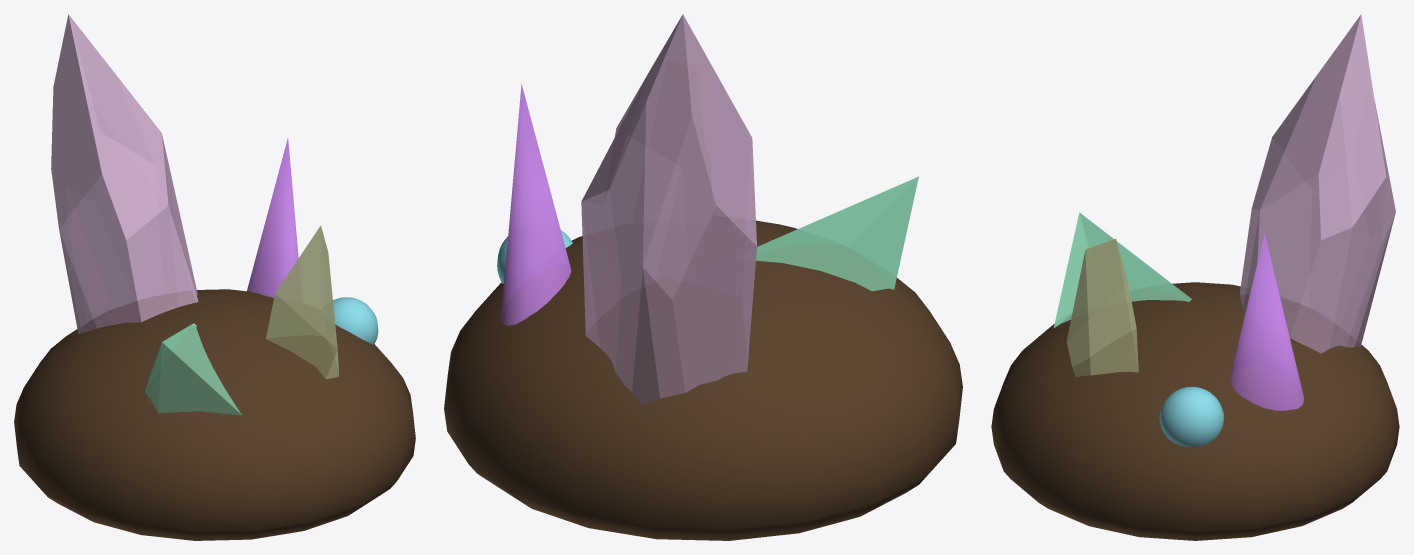
File: CrystalV1.fbx
3 renders of one model, left to right at view 1: azimuth 30°, elevation 25°; view 2: azimuth 150°, elevation 25°; view 3: azimuth 270°, elevation 25°, orthographic. The views are drawn at different scales.
Visible parts, largest first — view 1: pSphere1, pCube1, pCube3, pCube2, pCone1, pSphere2; view 2: pSphere1, pCube1, pCube2, pCone1; view 3: pSphere1, pCube1, pCube3, pCone1, pCube2, pSphere2.
Boxes of the visible parts, left/top/right/bottom form: pSphere1: left=14, top=289, right=415, bottom=540; pCube1: left=51, top=14, right=198, bottom=334; pCube3: left=266, top=225, right=338, bottom=379; pCube2: left=145, top=323, right=242, bottom=415; pCone1: left=247, top=138, right=298, bottom=297; pSphere2: left=333, top=297, right=378, bottom=344; pSphere1: left=444, top=220, right=962, bottom=540; pCube1: left=581, top=14, right=756, bottom=405; pCube2: left=756, top=176, right=918, bottom=291; pCone1: left=501, top=84, right=571, bottom=325; pSphere1: left=991, top=282, right=1399, bottom=540; pCube1: left=1239, top=14, right=1395, bottom=353; pCube3: left=1066, top=239, right=1138, bottom=376; pCone1: left=1230, top=233, right=1303, bottom=410; pCube2: left=1053, top=212, right=1191, bottom=327; pSphere2: left=1159, top=386, right=1224, bottom=446.
Size of the model in its own units: 1.04 by 1.2 by 1.03.
